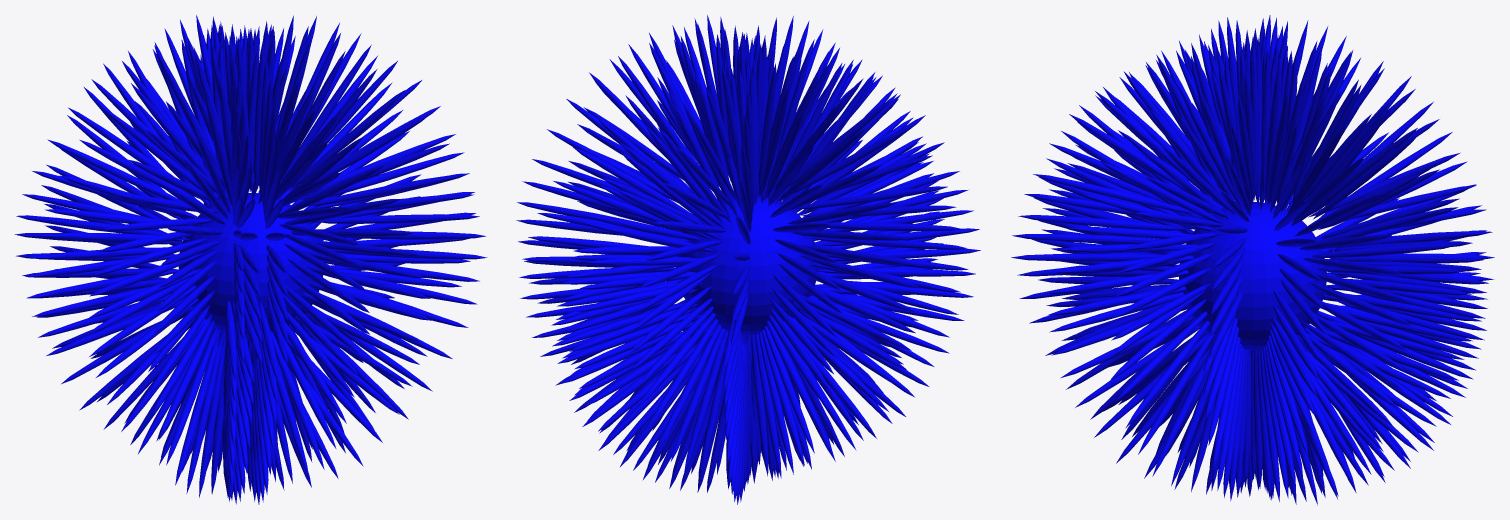
File: fireworkblue.glb
The picture shows the model from 3 angles, left to right: view 1: azimuth 30°, elevation 25°; view 2: azimuth 150°, elevation 25°; view 3: azimuth 270°, elevation 25°; orthographic projection. The views are drawn at different scales.
Parts seen in each view (by area): view 1: sparks1; view 2: sparks1; view 3: sparks1.
Boxes of the visible parts, <box> form: sparks1: <box>14,15,487,504</box>; sparks1: <box>516,15,980,504</box>; sparks1: <box>1011,15,1494,505</box>.
Bounding box in the file's own units: 11.21 × 12 × 11.44.
